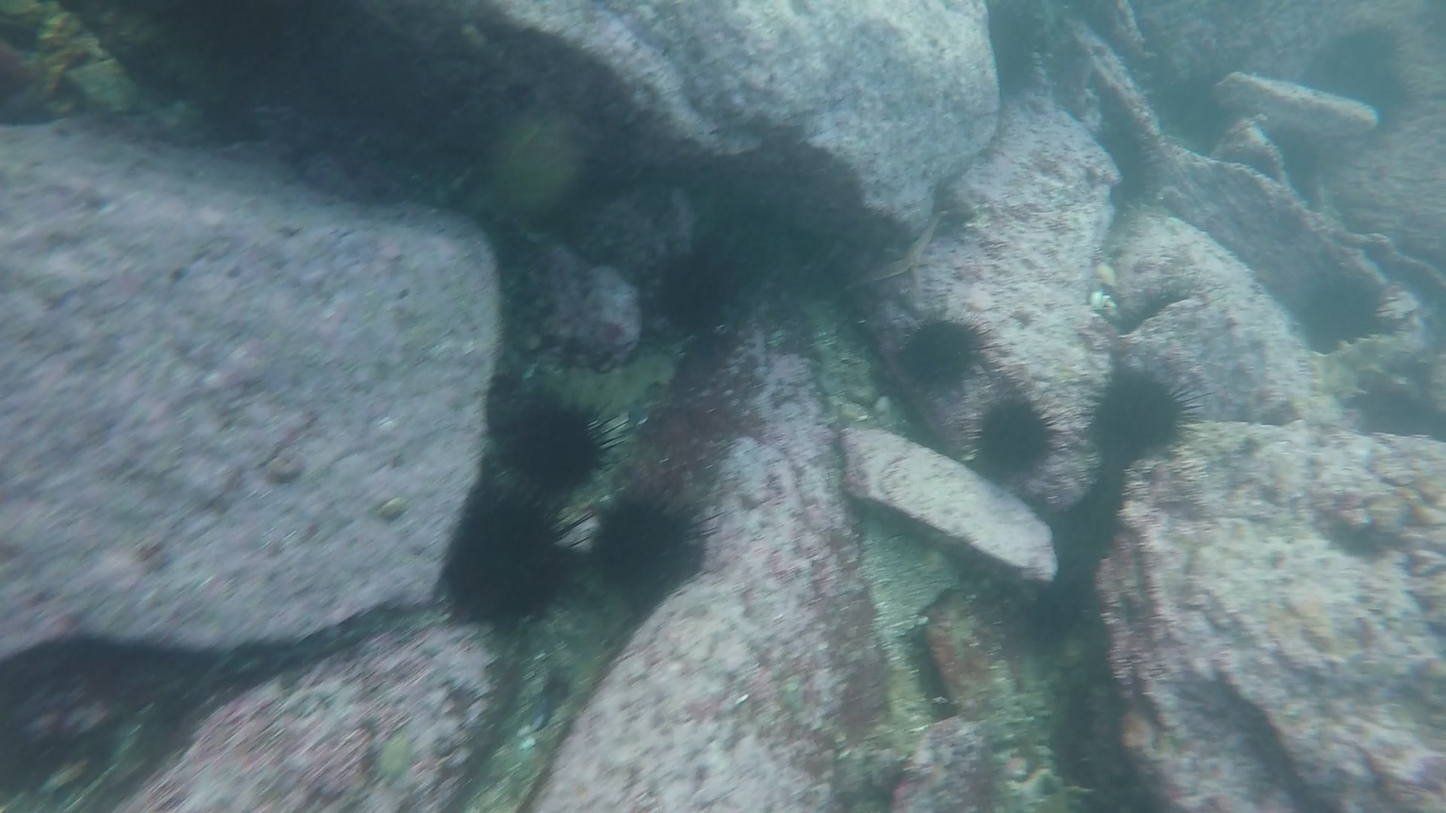starfish: (435, 492, 588, 634), (497, 402, 618, 504), (587, 491, 701, 597), (650, 248, 741, 338), (1091, 380, 1182, 465), (956, 397, 1054, 475), (892, 316, 987, 394), (1293, 276, 1393, 347), (981, 15, 1048, 103)
